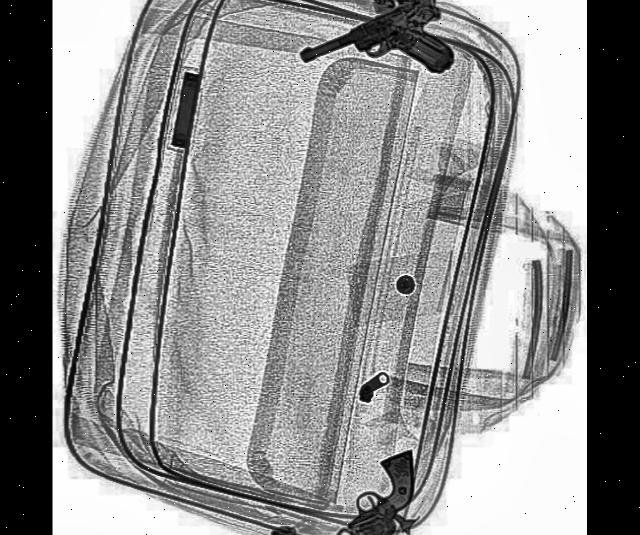Gun: (298, 0, 456, 130), (245, 451, 425, 535)
